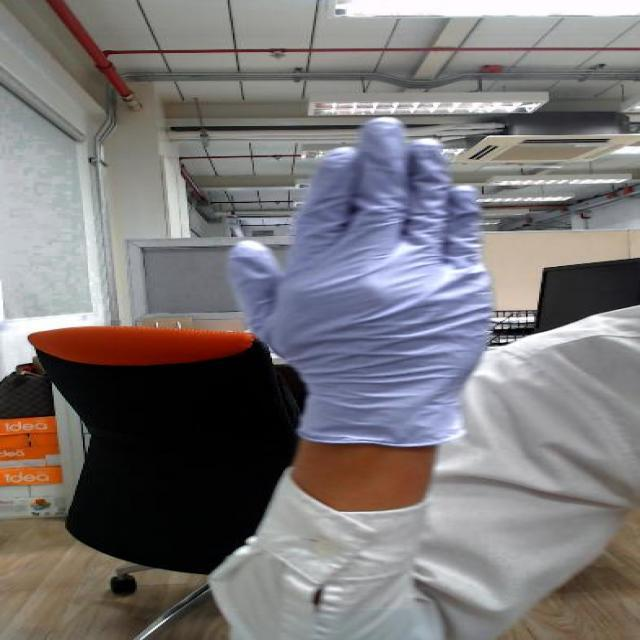with_gloves: (196, 113, 582, 428)
